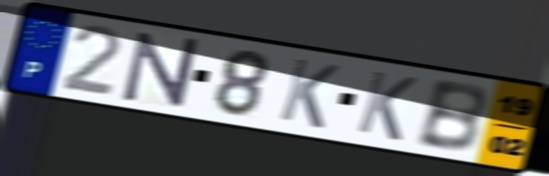2: (55, 23, 124, 97)
8: (211, 48, 272, 119)
B: (412, 79, 490, 155)
K: (275, 55, 343, 132), (353, 67, 421, 144)
N: (120, 30, 202, 110)
